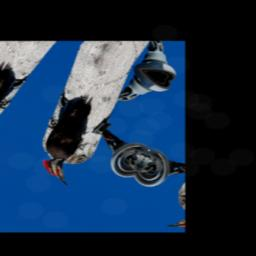Woodpecker: (19, 86, 117, 189)
